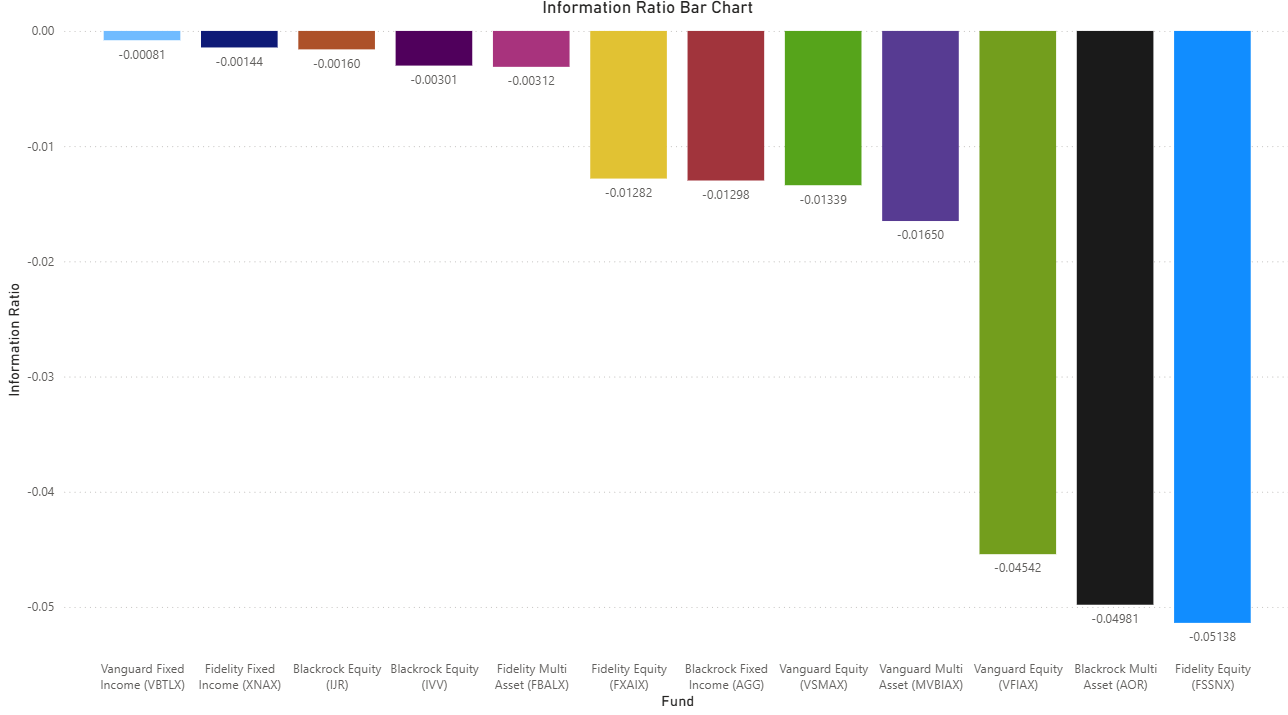

The dashboard page shown, as its layout file describes it:
{"tool":"powerbi","page":{"name":"Information Ratio Bar Chart","canvas":[1280,720],"ordinal":2},"visuals":[{"type":"columnChart","title":"Information Ratio Bar Chart","fields":{"Category":["Ratios.Fund"],"Y":["Avg(Ratios.Information Ratio)"]},"box":[6.8,6.8,1260.5,697.4],"z":0}]}

Visuals, with their boxes in screenshot pixels (x1, y1, x2, y2), scaled from the page's 1280x720 canvas onto the 1288x715 screenshot:
"Information Ratio Bar Chart" columnChart: region(7, 7, 1275, 699)
